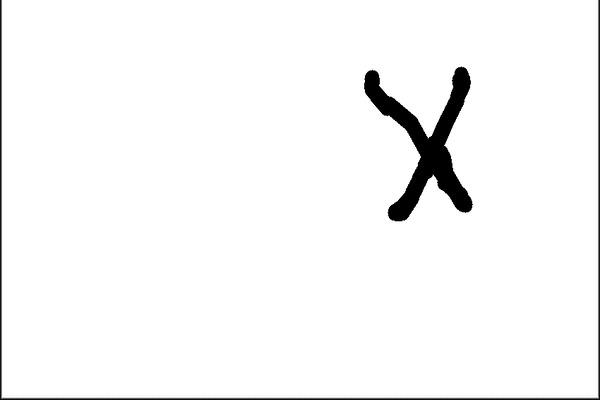X: (330, 47, 492, 229)
